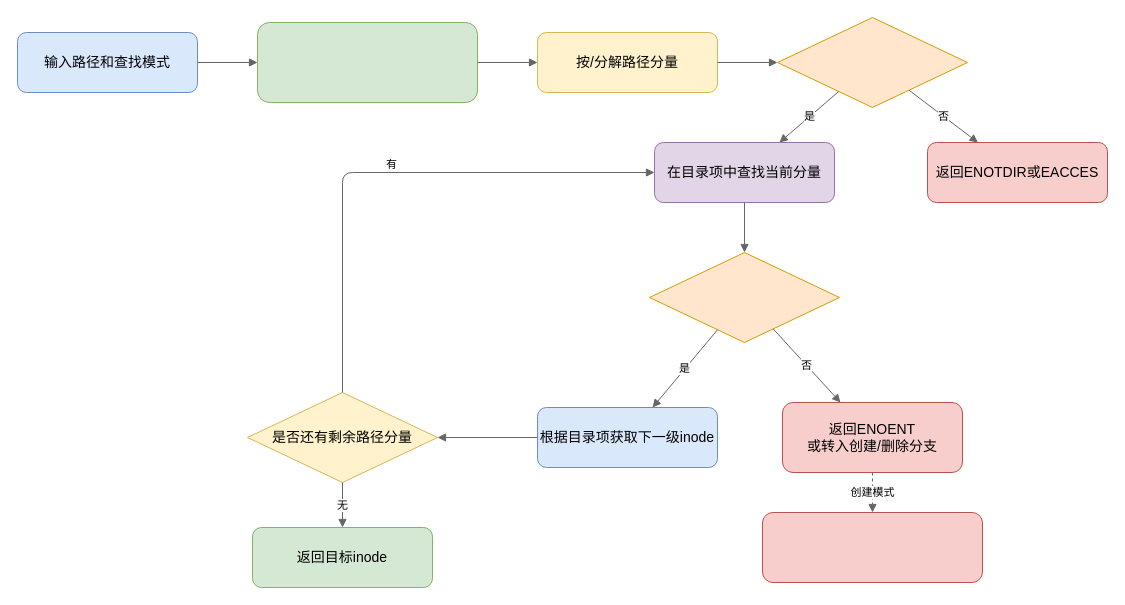
The diagram is 1125 pixels wide and 605 high, and some of its shapes have lost their labels. Each missing label, with the centre of its shape:
"创建模式下记录父目录和空闲目录项位置" belongs at (872,547).
"当前inode是否为目录 且具备执行权限" belongs at (872,62).
"找到目录项?" belongs at (744,297).
"选择起始目录 绝对路径: 根目录 相对路径: 当前目录" belongs at (367,62).
